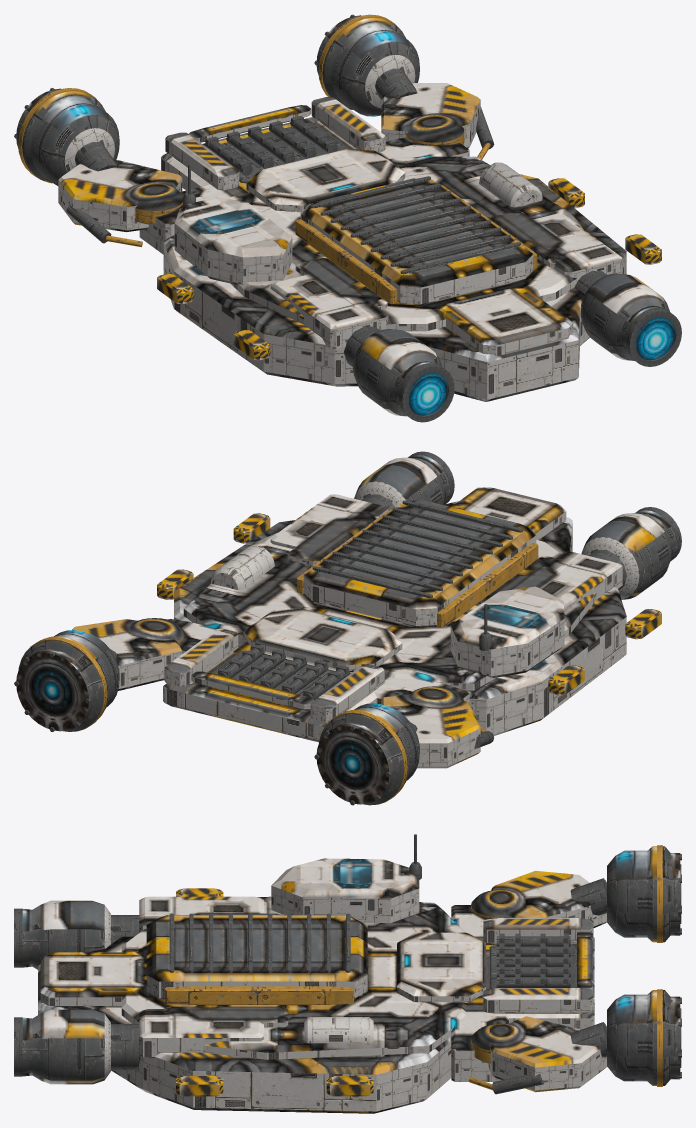
Rendered from mining-barge.obj.
3 views of the same model, one above another, from view 1: azimuth 30°, elevation 25°; view 2: azimuth 150°, elevation 25°; view 3: azimuth 270°, elevation 25° (orthographic).
Parts seen in each view (by area): view 1: hull.armored-keel, hopper.covered-single-bay, hull.shoulder-deck, bridge.port-cabin, cutter.starboard.barrel, cutter.port.barrel, hull.control-cap, hull.aft-spine, engine.port.housing, engine.starboard.housing, arm.port.shell, hull.port.aft-armor (+34 smaller); view 2: hopper.covered-single-bay, hull.shoulder-deck, hull.armored-keel, bridge.port-cabin, hull.control-cap, cutter.starboard.barrel, cutter.port.barrel, crusher.intake-foundation, engine.port.housing, arm.port.shell, arm.starboard.shell, engine.starboard.housing (+33 smaller); view 3: hull.armored-keel, hull.shoulder-deck, hopper.covered-single-bay, bridge.port-cabin, engine.starboard.housing, hull.control-cap, cutter.port.barrel, cutter.starboard.barrel, arm.starboard.shell, hull.aft-spine, engine.port.housing, hull.starboard.aft-armor (+30 smaller).
Boxes of the visible parts, x1=… form: hull.armored-keel: x1=163, y1=174, x2=626, y2=401; hopper.covered-single-bay: x1=300, y1=178, x2=533, y2=305; hull.shoulder-deck: x1=228, y1=156, x2=582, y2=331; bridge.port-cabin: x1=174, y1=197, x2=292, y2=284; cutter.starboard.barrel: x1=316, y1=14, x2=419, y2=116; cutter.port.barrel: x1=16, y1=88, x2=119, y2=185; hull.control-cap: x1=246, y1=149, x2=405, y2=211; hull.aft-spine: x1=441, y1=287, x2=573, y2=356; engine.port.housing: x1=353, y1=329, x2=447, y2=416; engine.starboard.housing: x1=580, y1=273, x2=675, y2=360; arm.port.shell: x1=58, y1=160, x2=182, y2=232; hull.port.aft-armor: x1=270, y1=274, x2=388, y2=348; hopper.covered-single-bay: x1=303, y1=500, x2=536, y2=627; hull.shoulder-deck: x1=183, y1=510, x2=596, y2=690; hull.armored-keel: x1=174, y1=501, x2=626, y2=735; bridge.port-cabin: x1=450, y1=586, x2=564, y2=677; hull.control-cap: x1=243, y1=608, x2=402, y2=671; cutter.starboard.barrel: x1=16, y1=630, x2=119, y2=731; cutter.port.barrel: x1=316, y1=703, x2=419, y2=805; crusher.intake-foundation: x1=163, y1=651, x2=385, y2=742; engine.port.housing: x1=581, y1=510, x2=677, y2=599; arm.port.shell: x1=381, y1=694, x2=480, y2=768; arm.starboard.shell: x1=72, y1=619, x2=182, y2=690; engine.starboard.housing: x1=354, y1=455, x2=450, y2=507; hull.armored-keel: x1=38, y1=897, x2=451, y2=1113; hull.shoulder-deck: x1=121, y1=896, x2=465, y2=1059; hopper.covered-single-bay: x1=146, y1=915, x2=367, y2=1000; bridge.port-cabin: x1=271, y1=858, x2=419, y2=923; engine.starboard.housing: x1=22, y1=1009, x2=110, y2=1084; hull.control-cap: x1=397, y1=932, x2=485, y2=1002; cutter.port.barrel: x1=607, y1=846, x2=680, y2=942; cutter.starboard.barrel: x1=607, y1=990, x2=680, y2=1085; arm.starboard.shell: x1=488, y1=1016, x2=606, y2=1092; hull.aft-spine: x1=40, y1=952, x2=142, y2=1005; engine.port.housing: x1=22, y1=900, x2=110, y2=969; hull.starboard.aft-armor: x1=139, y1=1009, x2=263, y2=1058.
Size of the model in its own units: 13.19 by 3.97 by 18.74.
Materials: 2 (2 with a texture image).
